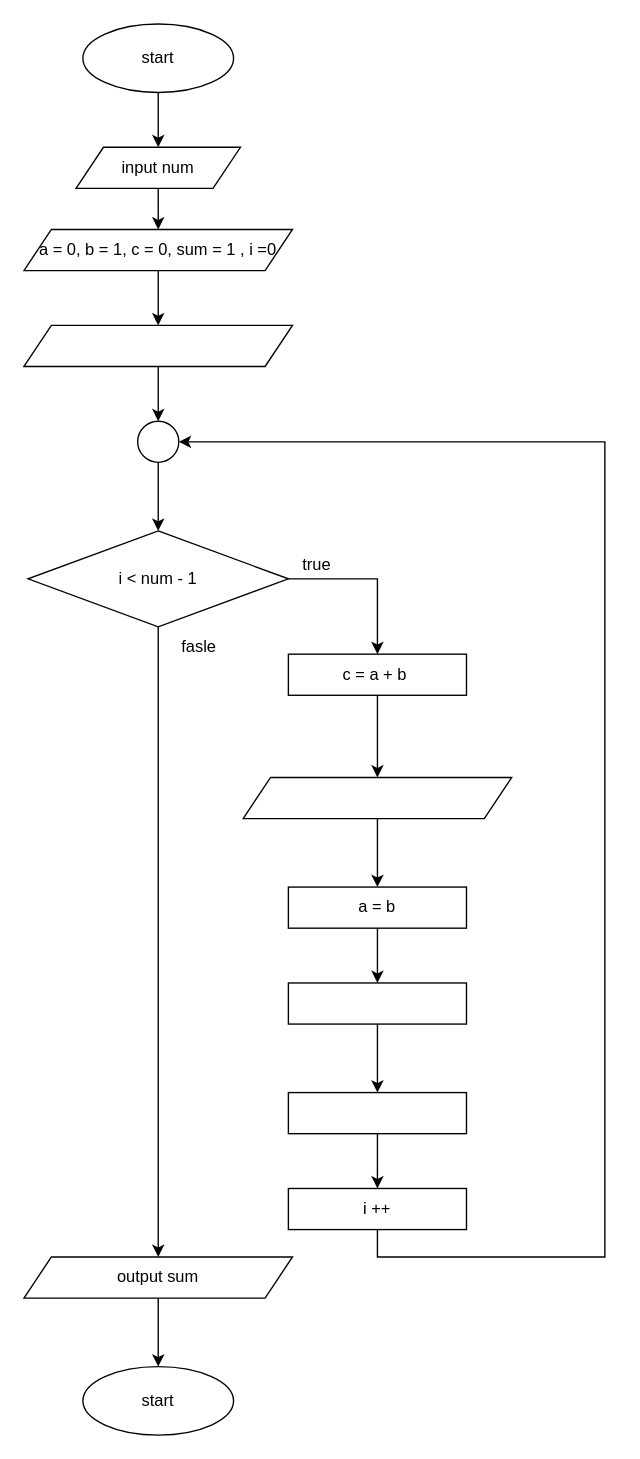
Image size: 640x1459. Some labels were removed from this diagram. The shapes that lost their labels are listed below. From the top down, each one's centre as x and y in pixels, then its label:
[157,345]: output "1"
[377,797]: output "+ c "
[376,1003]: b = c
[376,1112]: sum += c
